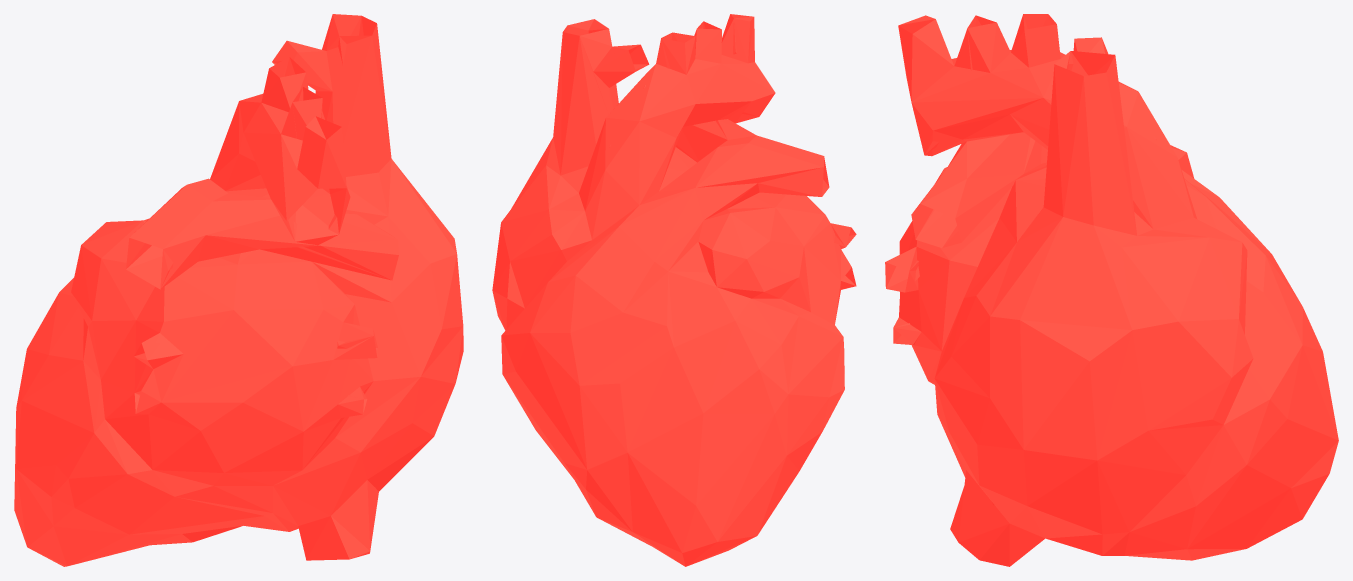
Rendered from heart2.fbx.
The picture shows the model from 3 angles, left to right: view 1: azimuth 30°, elevation 25°; view 2: azimuth 150°, elevation 25°; view 3: azimuth 270°, elevation 25°; orthographic projection. The views are drawn at different scales.
Visible parts, largest first — view 1: anatomical-heart; view 2: anatomical-heart; view 3: anatomical-heart.
Part boxes in pixels (left/top/right/bottom): anatomical-heart: left=14, top=14, right=463, bottom=566; anatomical-heart: left=492, top=14, right=856, bottom=566; anatomical-heart: left=885, top=14, right=1338, bottom=566.
Bounding box in the file's own units: 7315 × 9693 × 7035.
